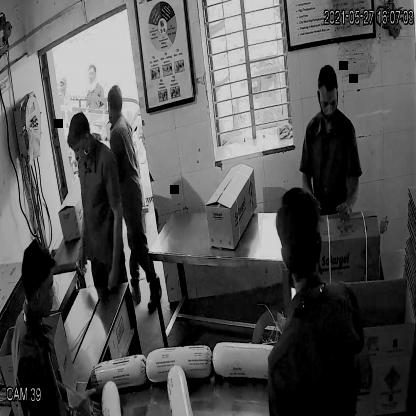no_goggles: (315, 86, 340, 115)
